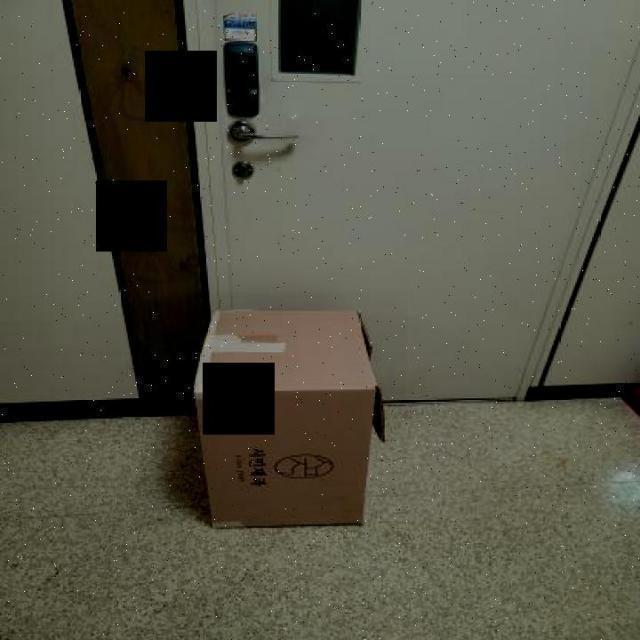box: (194, 309, 383, 529)
